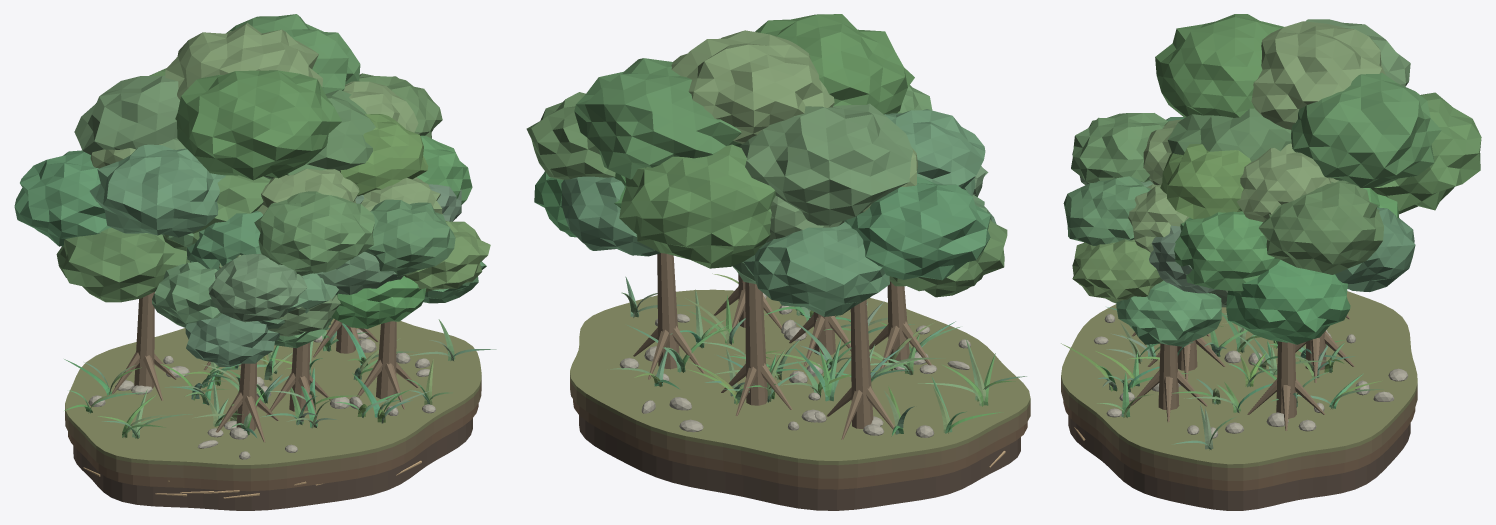
The model's file is forest.glb.
3 views of the same model, side by side, from view 1: azimuth 30°, elevation 25°; view 2: azimuth 150°, elevation 25°; view 3: azimuth 270°, elevation 25° (orthographic). The views are drawn at different scales.
Parts seen in each view (by area): view 1: world; view 2: world; view 3: world.
Boxes of the visible parts, x1,y1,x2,y2 form: world: (14,14,496,510); world: (526,14,1030,510); world: (1061,14,1481,510).
Bounding box in the file's own units: 1.8 × 1.53 × 1.51.
